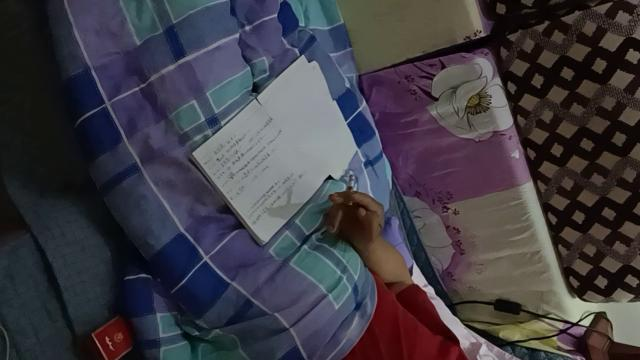Smoking: (346, 175, 354, 205)
